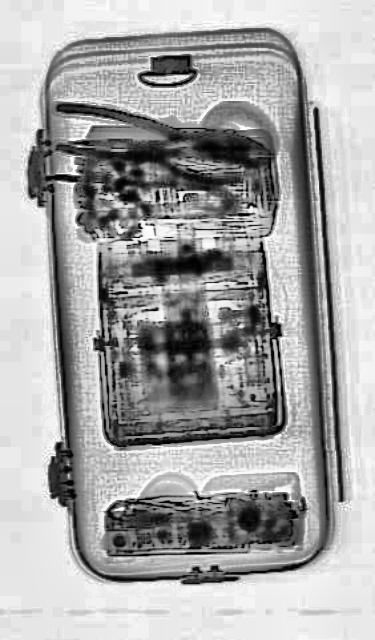Pliers: (52, 99, 268, 179)
